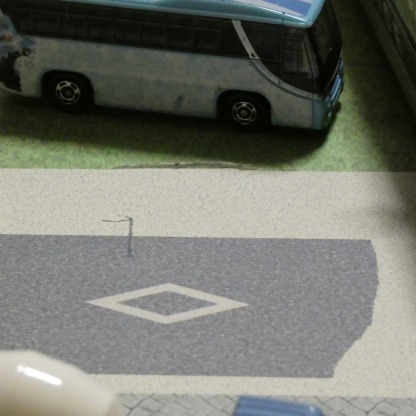car: (0, 0, 350, 141)
